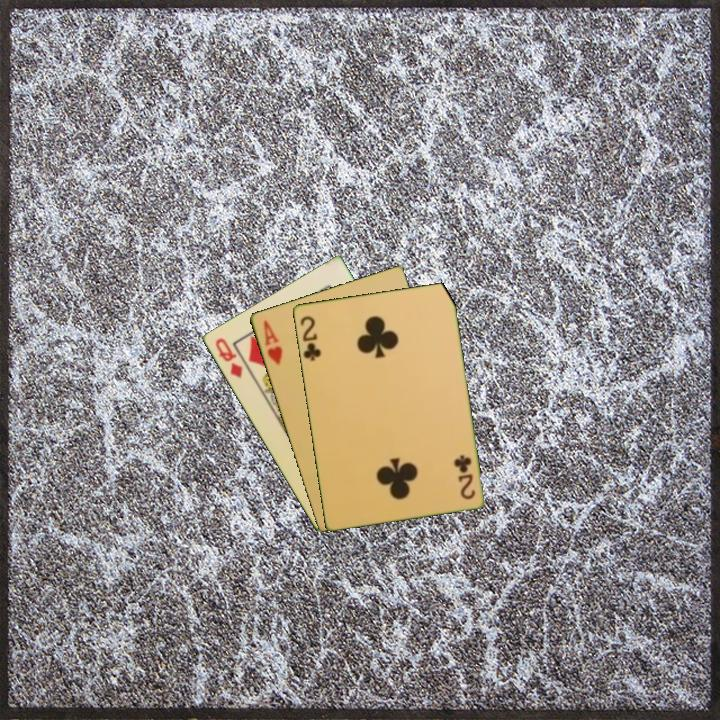2c: (296, 312, 324, 364), (451, 451, 478, 502)
Ah: (259, 316, 285, 368)
Qd: (211, 334, 245, 381)
